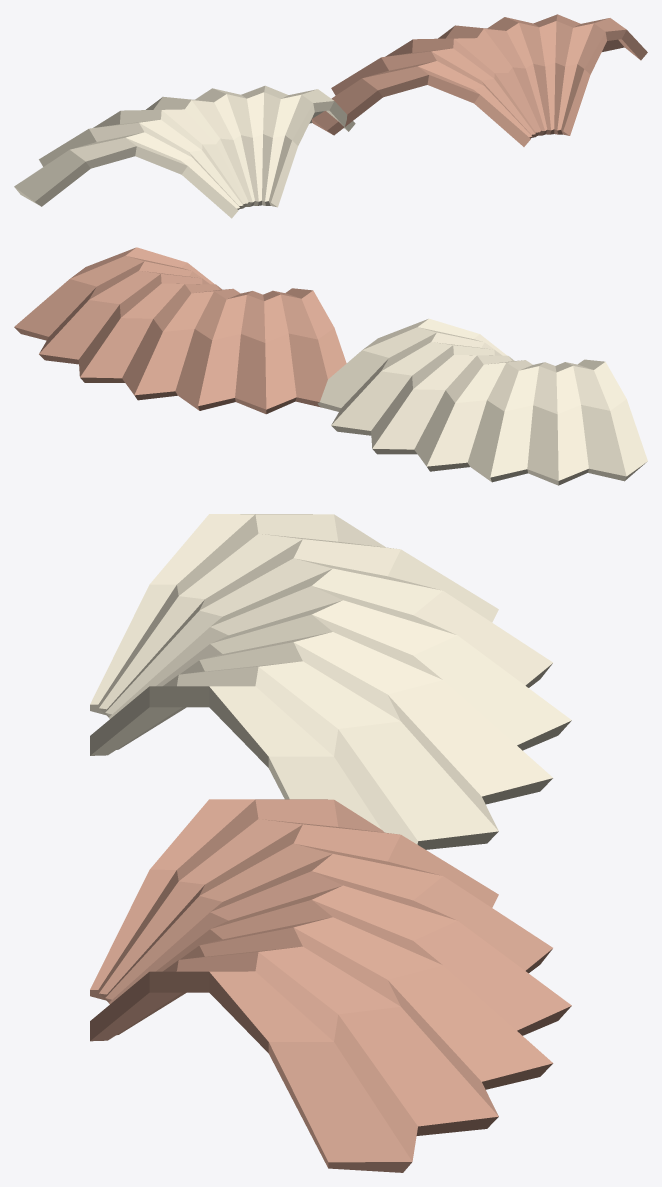
The model's file is shell_pair.glb.
3 views of the same model, one above another, from view 1: azimuth 30°, elevation 25°; view 2: azimuth 150°, elevation 25°; view 3: azimuth 270°, elevation 25° (orthographic). The views are drawn at different scales.
Visible parts, largest first — view 1: shell_pair; view 2: shell_pair; view 3: shell_pair.
Part boxes in pixels (bbox=[...]): shell_pair: bbox=[14, 14, 647, 218]; shell_pair: bbox=[14, 247, 647, 485]; shell_pair: bbox=[90, 514, 571, 1172].
Size of the model in its own units: 0.5875 by 0.062 by 0.2.
